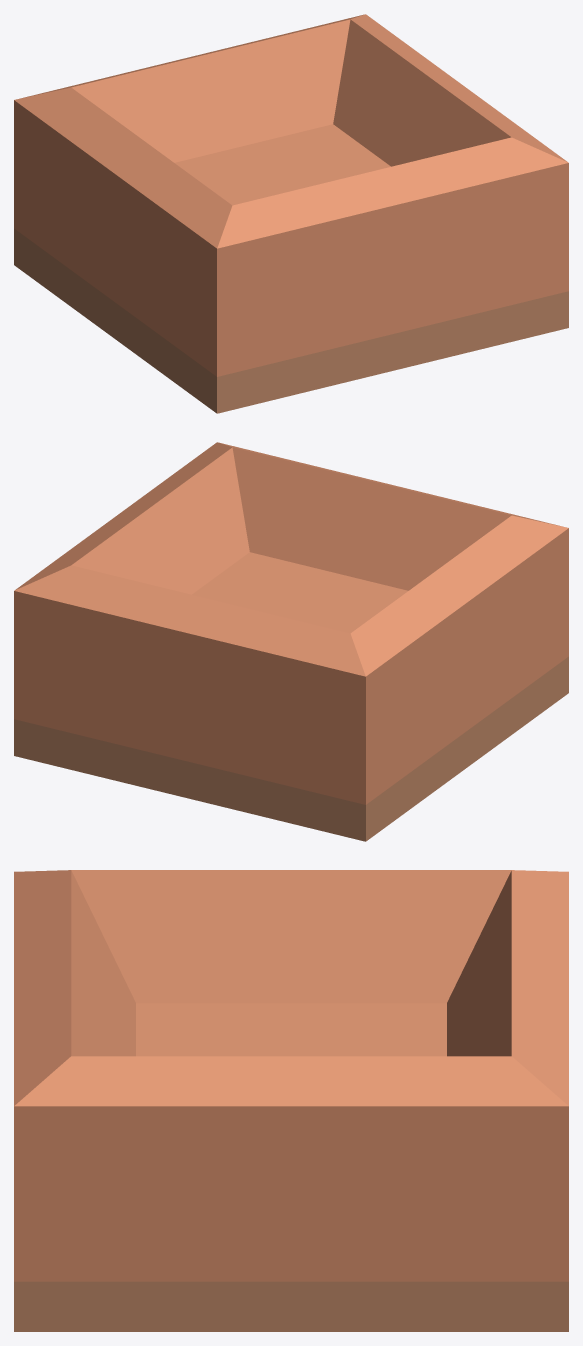
The model's file is item-source.fbx.
3 renders of one model, top to bottom at view 1: azimuth 30°, elevation 25°; view 2: azimuth 150°, elevation 25°; view 3: azimuth 270°, elevation 25°, orthographic. The views are drawn at different scales.
Visible parts, largest first — view 1: Cube; view 2: Cube; view 3: Cube.
Boxes of the visible parts, bbox=[...] form: Cube: bbox=[14, 14, 568, 413]; Cube: bbox=[14, 442, 568, 841]; Cube: bbox=[14, 870, 568, 1331].
Bounding box in the file's own units: 100 × 50 × 100.
